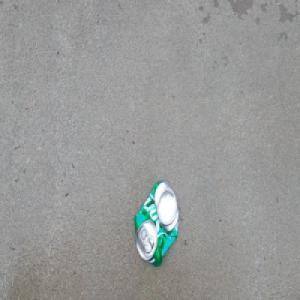SodaCan: (132, 176, 180, 269)
